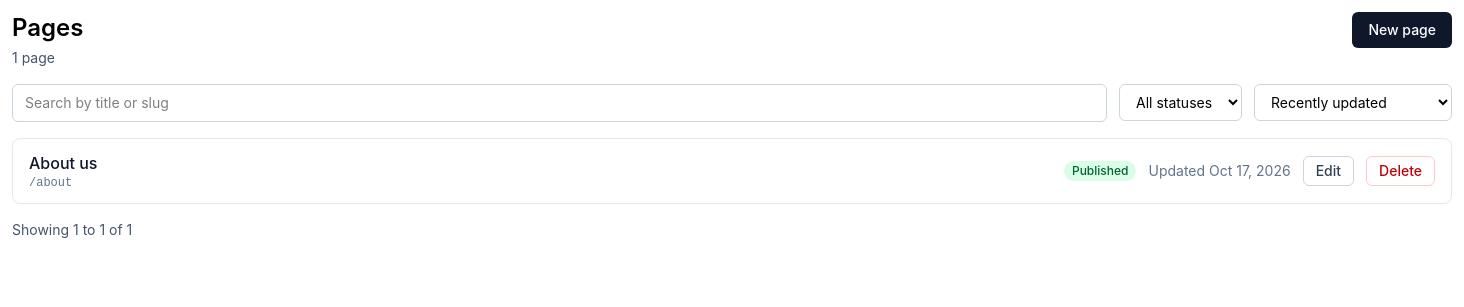
PagesView › deletes after confirmation and reloads the list
Click the button with aria-label "Delete About us": (1401, 171) [1366,156,1435,186]
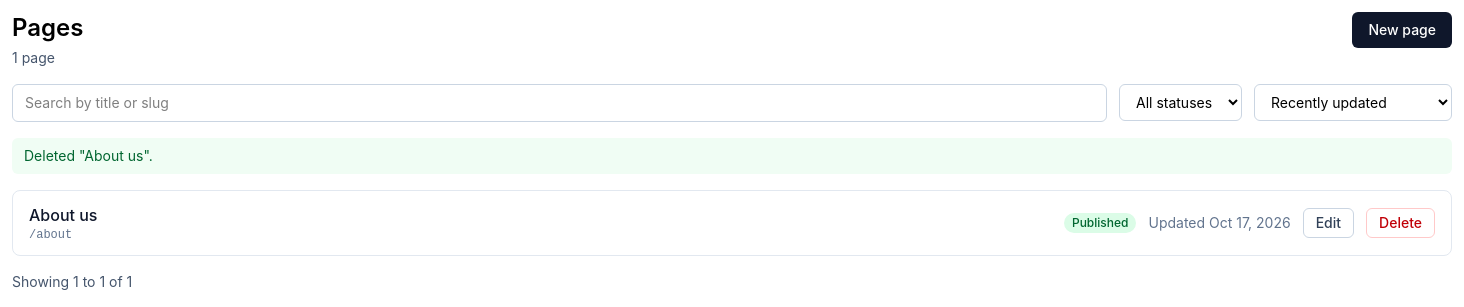
Check: the text "Deleted \"About us\"" is shown, box [24,147,153,164]
